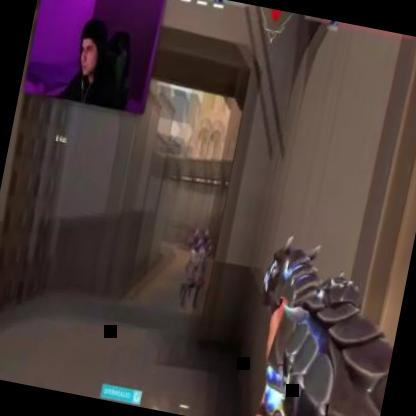enemy: (177, 226, 213, 312)
enemy_head: (192, 228, 202, 246)
